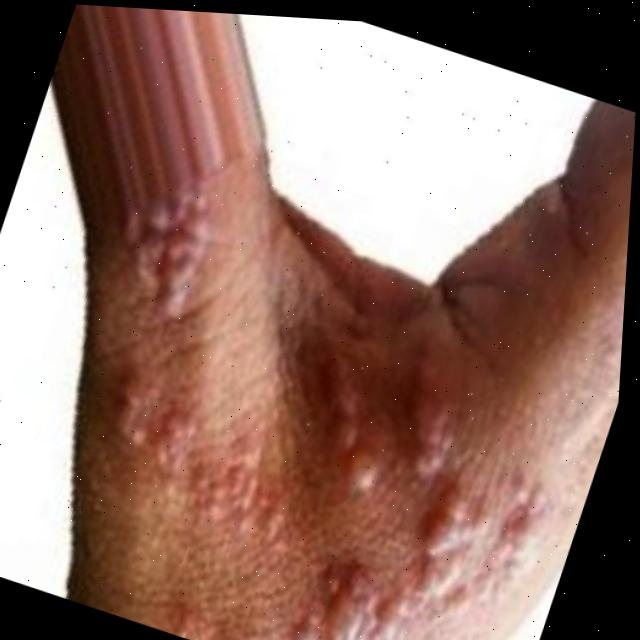Shingles: (274, 417, 565, 640), (69, 357, 319, 554), (277, 338, 416, 493), (109, 169, 227, 326), (371, 351, 485, 493)
